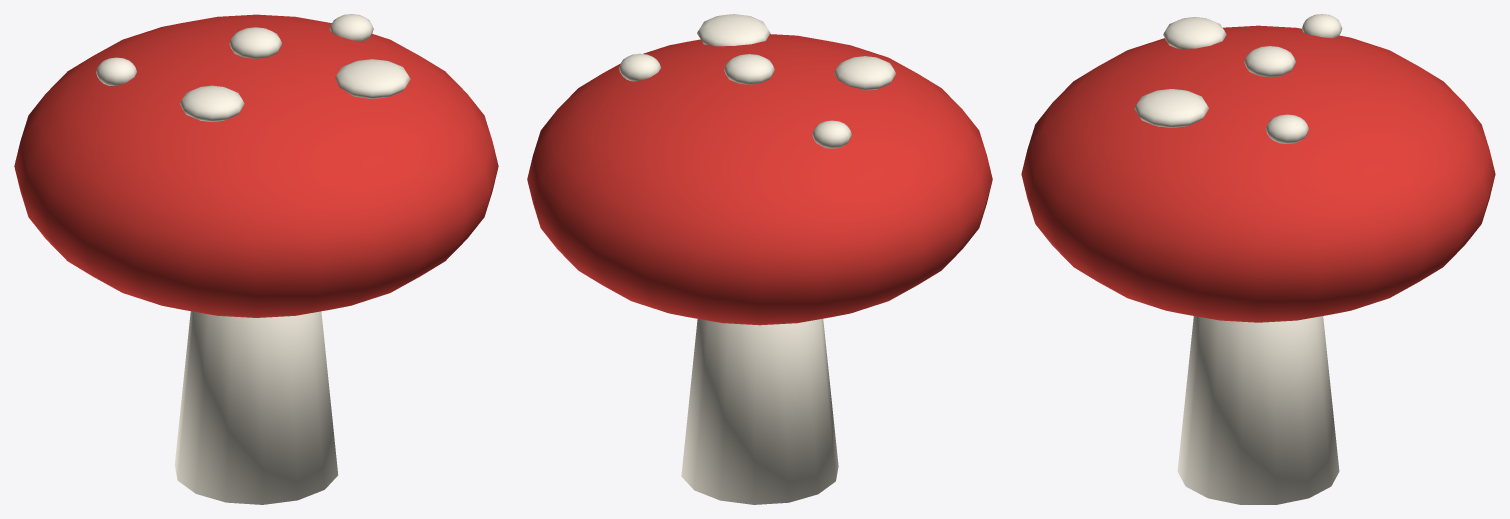
Rendered from mushroom.glb.
3 renders of one model, left to right at view 1: azimuth 30°, elevation 25°; view 2: azimuth 150°, elevation 25°; view 3: azimuth 270°, elevation 25°, orthographic. The views are drawn at different scales.
Parts seen in each view (by area): view 1: mushroom; view 2: mushroom; view 3: mushroom.
Boxes of the visible parts, left/top/right/bottom form: mushroom: left=14, top=14, right=498, bottom=504; mushroom: left=527, top=14, right=992, bottom=504; mushroom: left=1021, top=14, right=1495, bottom=504.
Size of the model in its own units: 1 by 0.9862 by 1.
